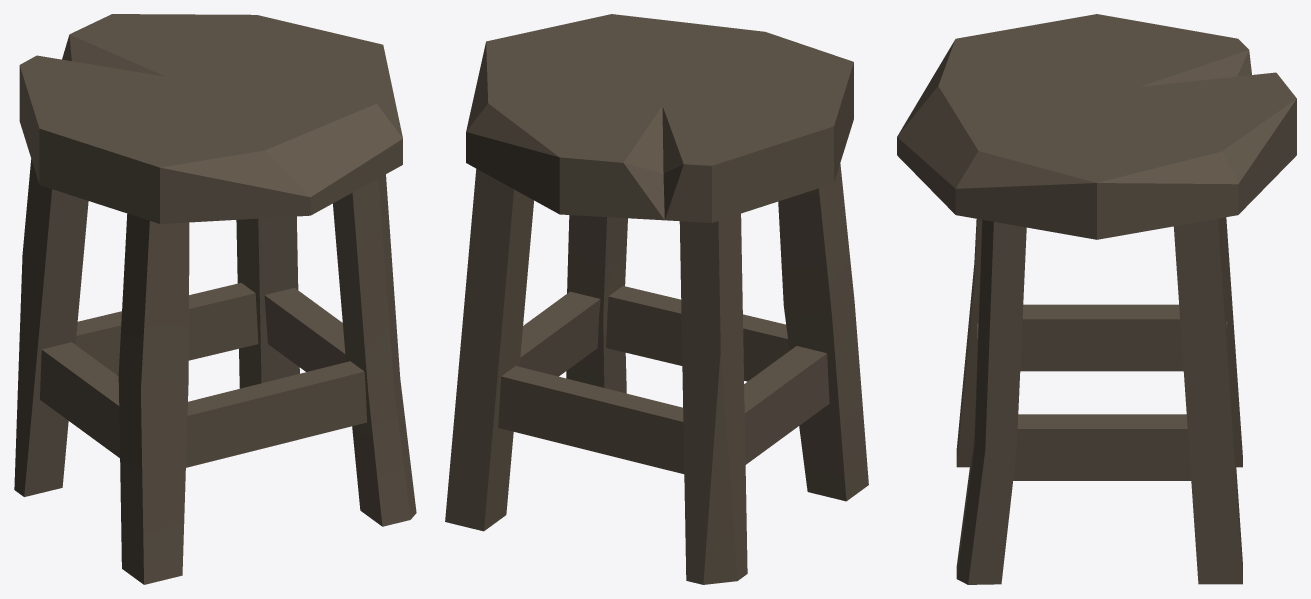
The model's file is SM_Prop_Stool_02.glb.
The picture shows the model from 3 angles, left to right: view 1: azimuth 30°, elevation 25°; view 2: azimuth 150°, elevation 25°; view 3: azimuth 270°, elevation 25°; orthographic projection.
Visible parts, largest first — view 1: SM_Prop_Stool_02; view 2: SM_Prop_Stool_02; view 3: SM_Prop_Stool_02.
Part boxes in pixels (<box>): SM_Prop_Stool_02: <box>14,14,416,584</box>; SM_Prop_Stool_02: <box>445,14,868,584</box>; SM_Prop_Stool_02: <box>897,14,1296,584</box>.
Bounding box in the file's own units: 0.00655 × 0.00754 × 0.00655.
1 material, 1 textured.
